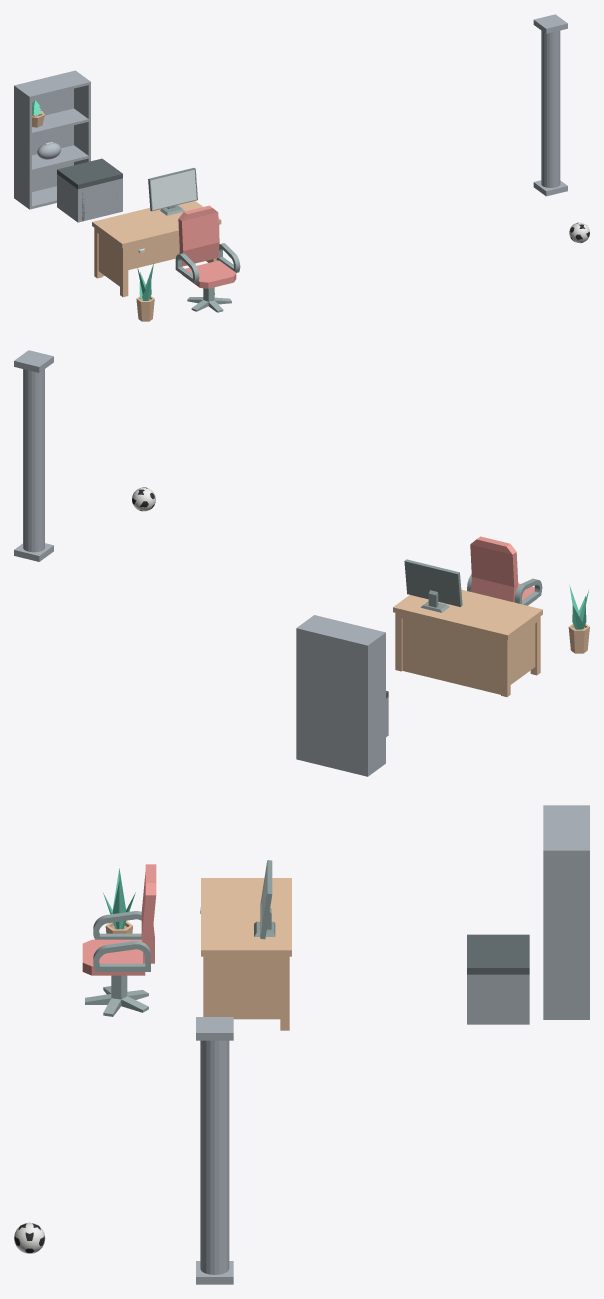
The picture shows the model from 3 angles, top to bottom: view 1: azimuth 30°, elevation 25°; view 2: azimuth 150°, elevation 25°; view 3: azimuth 270°, elevation 25°; orthographic projection. The views are drawn at different scales.
Visible parts, largest first — view 1: desk_blue__desk(Clone), deskchair_black__chair, column_cyan__column_cyan shaft, crate_red__crate_red shell, shelf_orange__shelf_orange back, shelf_orange__shelf_orange side_l, monitor_gray__computerScreen(Clone), crate_red__crate_red lid, shelf_orange__shelf_orange side_r, shelf_orange__shelf_orange board3, shelf_orange__shelf_orange board2, shelf_orange__shelf_orange board1 (+3 smaller); view 2: desk_blue__desk(Clone), shelf_orange__shelf_orange back, column_cyan__column_cyan shaft, deskchair_black__chair, shelf_orange__shelf_orange side_l, monitor_gray__computerScreen(Clone), shelf_orange__shelf_orange board3, column_cyan__column_cyan capital; view 3: desk_blue__desk(Clone), shelf_orange__shelf_orange side_r, column_cyan__column_cyan shaft, deskchair_black__chair, crate_red__crate_red shell, crate_red__crate_red lid, shelf_orange__shelf_orange board3, deskchair_black__chairDesk(Clone), monitor_gray__computerScreen(Clone), column_cyan__column_cyan capital, soccer_white__soccer_white.
Boxes of the visible parts, left/top/right/bottom form: desk_blue__desk(Clone): left=92, top=201, right=221, bottom=297; deskchair_black__chair: left=175, top=205, right=240, bottom=288; column_cyan__column_cyan shaft: left=541, top=30, right=560, bottom=187; crate_red__crate_red shell: left=57, top=174, right=122, bottom=222; shelf_orange__shelf_orange back: left=17, top=71, right=73, bottom=191; shelf_orange__shelf_orange side_l: left=14, top=85, right=31, bottom=209; monitor_gray__computerScreen(Clone): left=148, top=168, right=197, bottom=215; crate_red__crate_red lid: left=57, top=158, right=122, bottom=189; shelf_orange__shelf_orange side_r: left=73, top=70, right=90, bottom=165; shelf_orange__shelf_orange board3: left=17, top=72, right=88, bottom=98; shelf_orange__shelf_orange board2: left=32, top=108, right=88, bottom=135; shelf_orange__shelf_orange board1: left=32, top=145, right=88, bottom=172; desk_blue__desk(Clone): left=393, top=589, right=542, bottom=696; shelf_orange__shelf_orange back: left=299, top=628, right=365, bottom=775; column_cyan__column_cyan shaft: left=23, top=369, right=44, bottom=552; deskchair_black__chair: left=467, top=536, right=542, bottom=605; shelf_orange__shelf_orange side_l: left=365, top=631, right=385, bottom=776; monitor_gray__computerScreen(Clone): left=404, top=559, right=462, bottom=612; shelf_orange__shelf_orange board3: left=301, top=615, right=382, bottom=643; column_cyan__column_cyan capital: left=14, top=350, right=53, bottom=372; desk_blue__desk(Clone): left=201, top=878, right=291, bottom=1030; shelf_orange__shelf_orange side_r: left=543, top=848, right=589, bottom=1019; column_cyan__column_cyan shaft: left=200, top=1040, right=229, bottom=1274; deskchair_black__chair: left=82, top=864, right=156, bottom=975; crate_red__crate_red shell: left=467, top=974, right=529, bottom=1024; crate_red__crate_red lid: left=467, top=934, right=529, bottom=974; shelf_orange__shelf_orange board3: left=543, top=807, right=586, bottom=848; deskchair_black__chairDesk(Clone): left=85, top=975, right=148, bottom=1016; monitor_gray__computerScreen(Clone): left=254, top=860, right=275, bottom=939; column_cyan__column_cyan capital: left=196, top=1017, right=233, bottom=1040; soccer_white__soccer_white: left=14, top=1222, right=45, bottom=1253.
Bounding box in the file's own units: 5.56 × 1.95 × 4.04.
